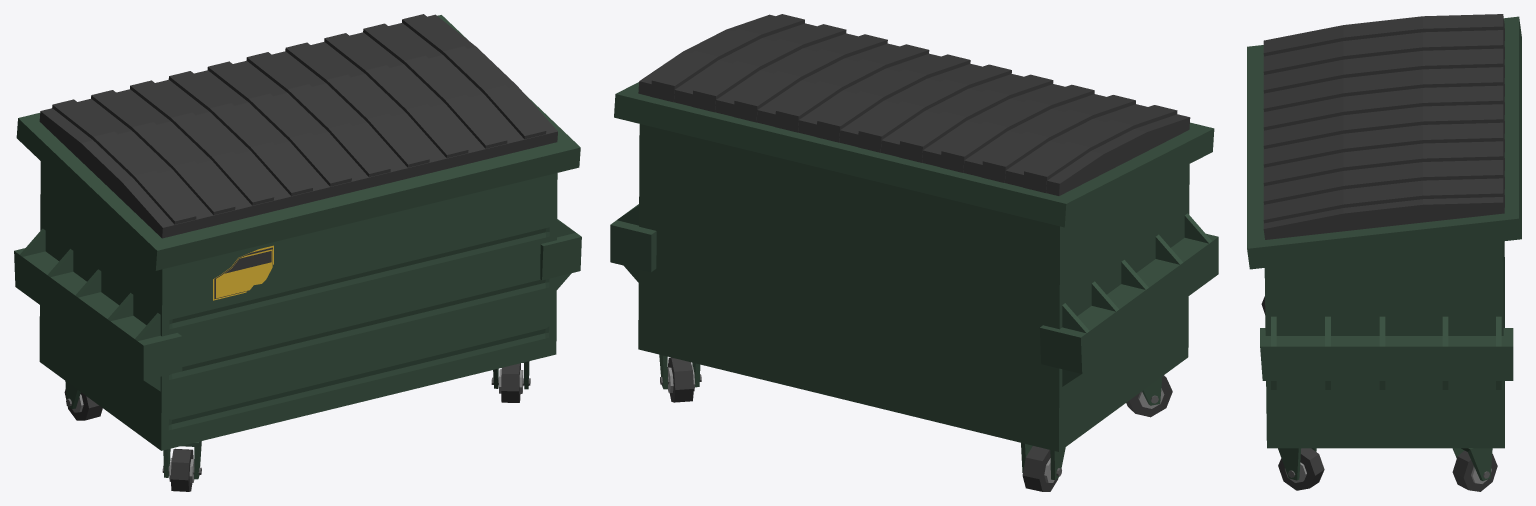
File: dumpster.glb
3 renders of one model, left to right at view 1: azimuth 30°, elevation 25°; view 2: azimuth 150°, elevation 25°; view 3: azimuth 270°, elevation 25°, orthographic. The views are drawn at different scales.
Visible parts, largest first — view 1: Cube.015; view 2: Cube.015; view 3: Cube.015.
Part boxes in pixels (left/top/right/bottom): Cube.015: left=14, top=14, right=581, bottom=491; Cube.015: left=610, top=14, right=1218, bottom=491; Cube.015: left=1247, top=14, right=1521, bottom=491.
Bounding box in the file's own units: 2.72 × 1.82 × 1.5.
